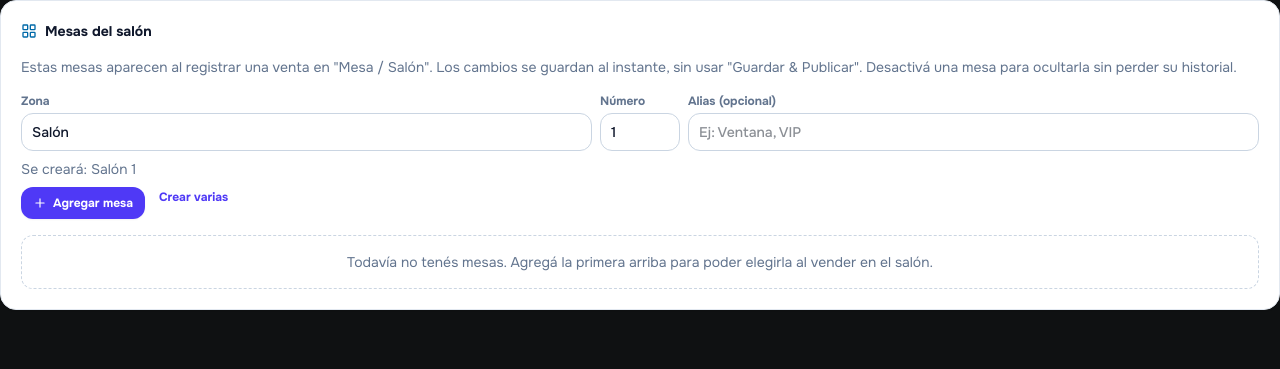
it: CustomizerTablesSection › creates a table from zone, number and alias and refreshes the suggested number
Check: the text "Todavía no tenés mesas" is shown, box [347, 253, 933, 271]
Replace the text in the field named "Zona de la nueva mesa" with " terraza " at [306, 132], box [21, 113, 592, 151]
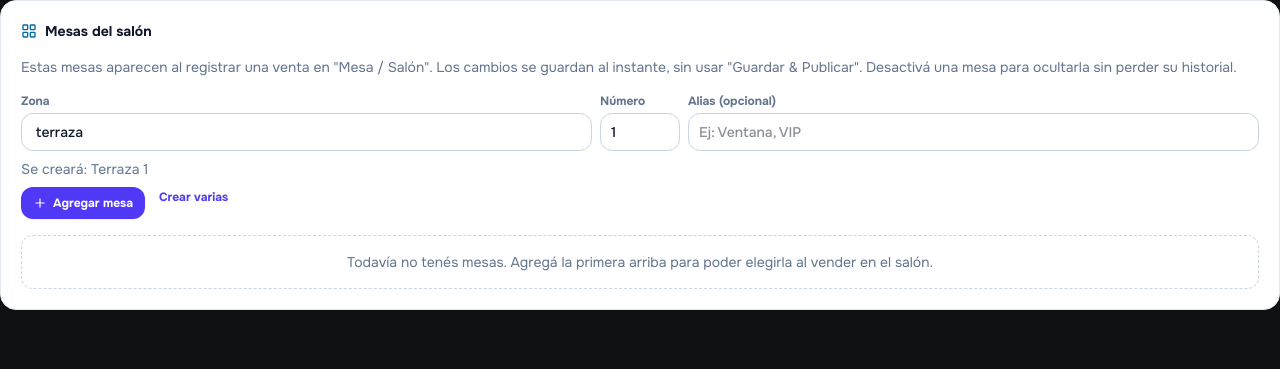
Replace the text in the number field named "Número de la nueva mesa" with "5" at [640, 132], box [600, 113, 680, 151]
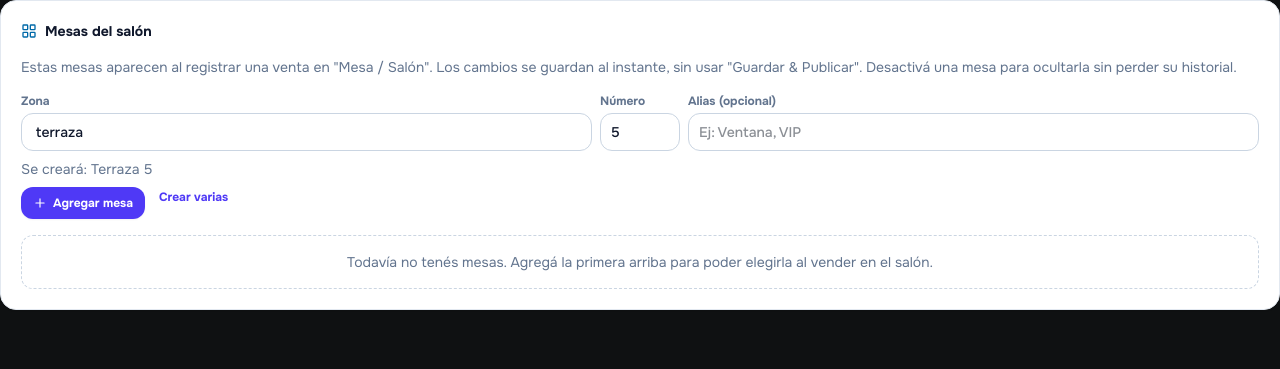
Type " VIP " into the field named "Alias de la nueva mesa" at [974, 132], box [688, 113, 1259, 151]
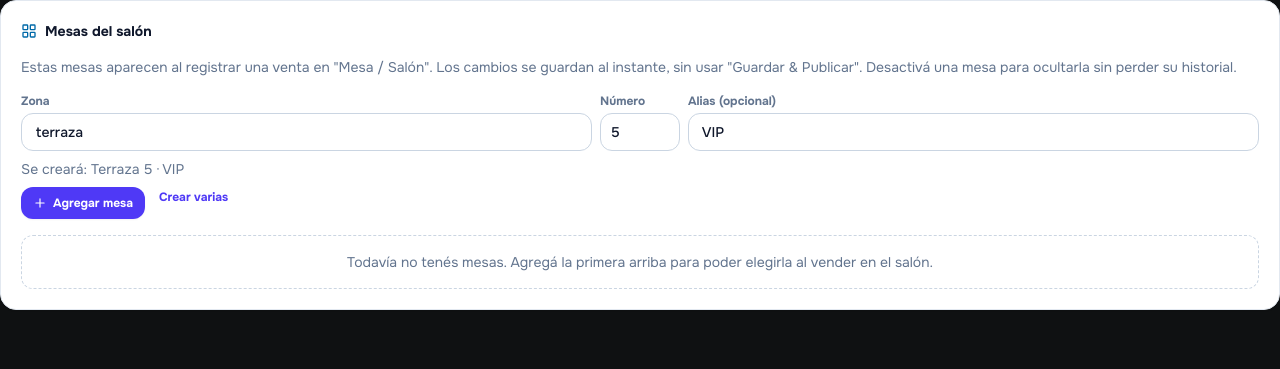
Check: the text "Se creará: Terraza 5 · VIP" is shown, box [21, 160, 184, 178]
Click the button "Agregar mesa" at [83, 203], box [21, 187, 145, 219]
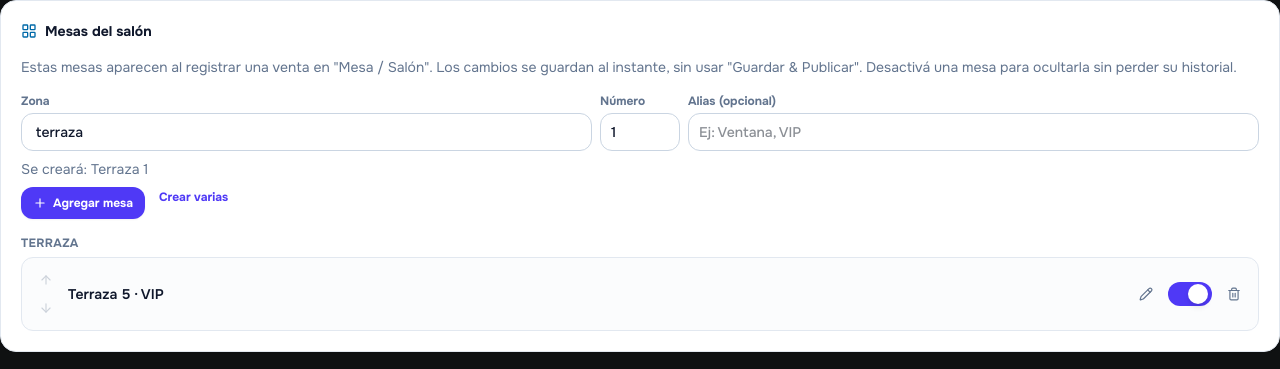
Check: the text "Terraza 5 · VIP" is shown, box [68, 285, 164, 303]
Check: the field named "Alias de la nueva mesa" is empty, box [688, 113, 1259, 151]
Check: the number field named "Número de la nueva mesa" holds "1", box [600, 113, 680, 151]
